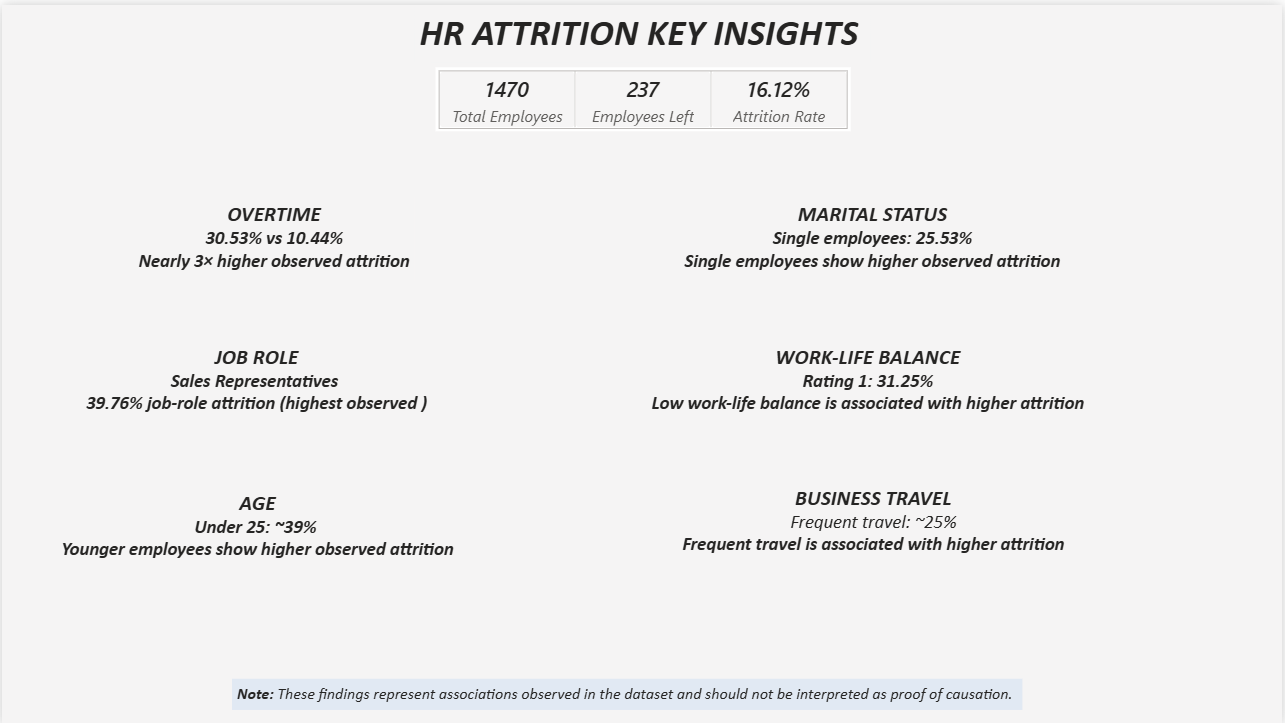

Layout of this report page (visuals, bound fields, positions):
{"tool":"powerbi","page":{"name":"Key Insights","canvas":[1280,720],"ordinal":3},"visuals":[{"type":"textbox","box":[413,0,455.8,57.1],"z":0},{"type":"cardVisual","fields":{"Data":["HR Analytics.Total Employees","HR Analytics.Employees Left","HR Analytics.Attrition Rate"]},"box":[428.6,57.1,426,74],"z":1},{"type":"textbox","box":[131.7,191.7,281.7,85],"z":2},{"type":"textbox","box":[68.3,333.3,371.7,85],"z":3},{"type":"textbox","box":[45.7,480,418.3,80],"z":4},{"type":"textbox","box":[661.7,191.7,418.3,85],"z":5},{"type":"textbox","box":[640,333.3,451.7,93.3],"z":6},{"type":"textbox","box":[671.7,475,400,85],"z":7},{"type":"textbox","box":[230,674.3,790,31.4],"z":8}]}

Visuals, with their boxes in screenshot pixels (x1, y1, x2, y2), scaled from the page's 1280x720 canvas onto the 1285x723 screenshot:
textbox: pyautogui.locateOnScreen(415, 0, 872, 57)
cardVisual - HR Analytics.Total Employees x HR Analytics.Employees Left: pyautogui.locateOnScreen(430, 57, 858, 132)
textbox: pyautogui.locateOnScreen(132, 192, 415, 278)
textbox: pyautogui.locateOnScreen(69, 335, 442, 420)
textbox: pyautogui.locateOnScreen(46, 482, 466, 562)
textbox: pyautogui.locateOnScreen(664, 192, 1084, 278)
textbox: pyautogui.locateOnScreen(642, 335, 1096, 428)
textbox: pyautogui.locateOnScreen(674, 477, 1076, 562)
textbox: pyautogui.locateOnScreen(231, 677, 1024, 709)
